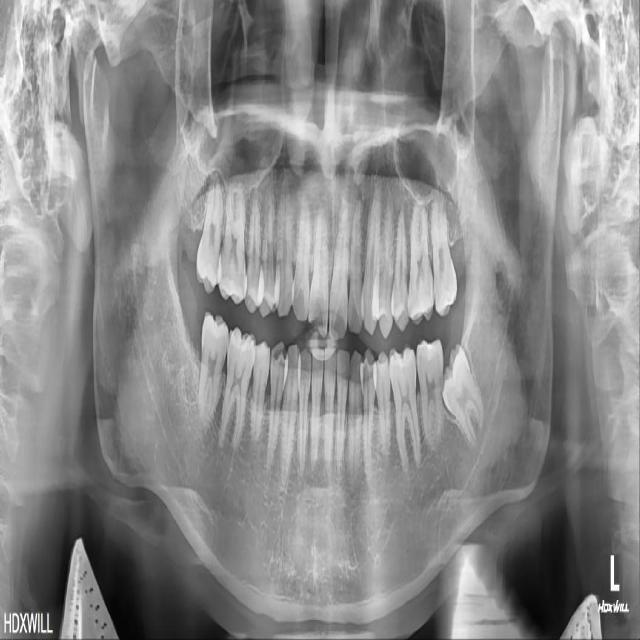impacted tooth: (444, 345, 484, 451)
